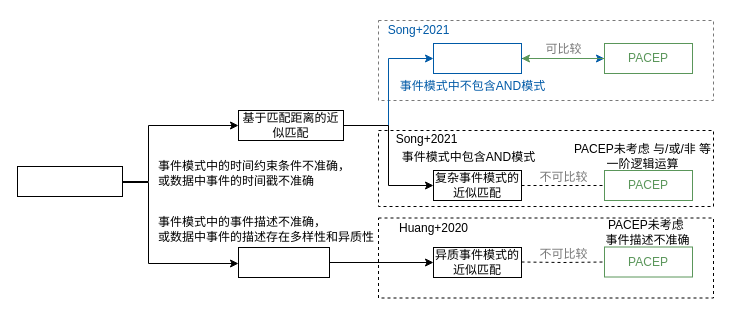
Image size: 737x315. Some labels were removed from this diagram. Each missing label, with the centre of its shape:
"事件模式近似匹配方法研究" goes at pixel 69 181.
"基于向量相似度的近似匹配" goes at pixel 284 262.
"简单事件模式的近似匹配" goes at pixel 477 58.
